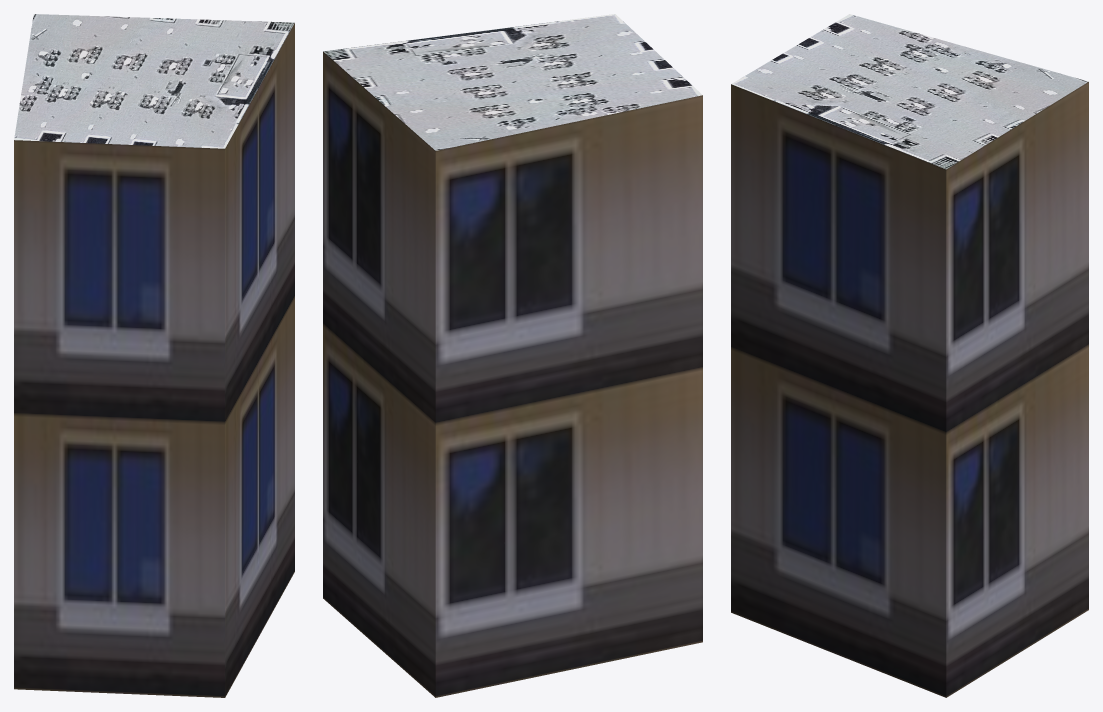
File: ResTex__4858.fbx
The picture shows the model from 3 angles, left to right: view 1: azimuth 30°, elevation 25°; view 2: azimuth 150°, elevation 25°; view 3: azimuth 270°, elevation 25°; orthographic projection. The views are drawn at different scales.
Parts seen in each view (by area): view 1: CityEngineMaterial_5_m, CityEngineMaterial_8_m; view 2: CityEngineMaterial_5_m, CityEngineMaterial_8_m; view 3: CityEngineMaterial_5_m, CityEngineMaterial_8_m.
Boxes of the visible parts, left/top/right/bottom form: CityEngineMaterial_5_m: left=14, top=23, right=294, bottom=697; CityEngineMaterial_8_m: left=14, top=14, right=294, bottom=148; CityEngineMaterial_5_m: left=323, top=51, right=702, bottom=697; CityEngineMaterial_8_m: left=323, top=14, right=702, bottom=150; CityEngineMaterial_5_m: left=731, top=82, right=1088, bottom=697; CityEngineMaterial_8_m: left=731, top=14, right=1088, bottom=169.
Bounding box in the file's own units: 3.79 × 6 × 3.68.
2 materials, 2 textured.
